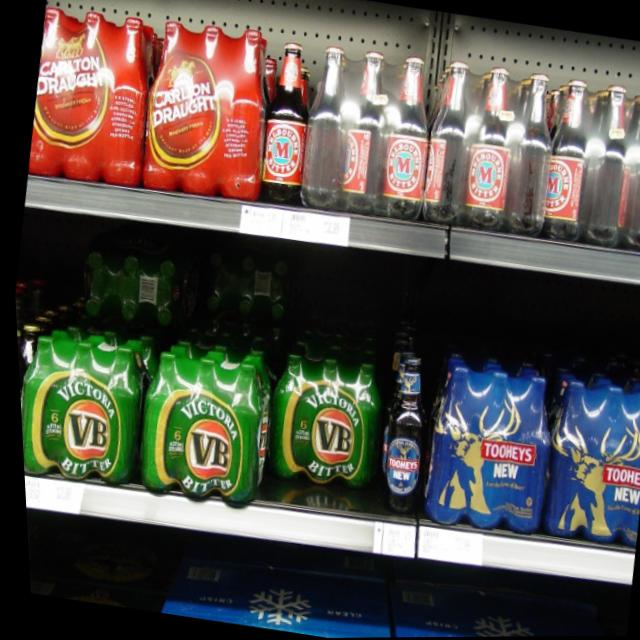q291: (118, 320, 284, 521), (13, 306, 163, 505), (247, 324, 397, 518)
